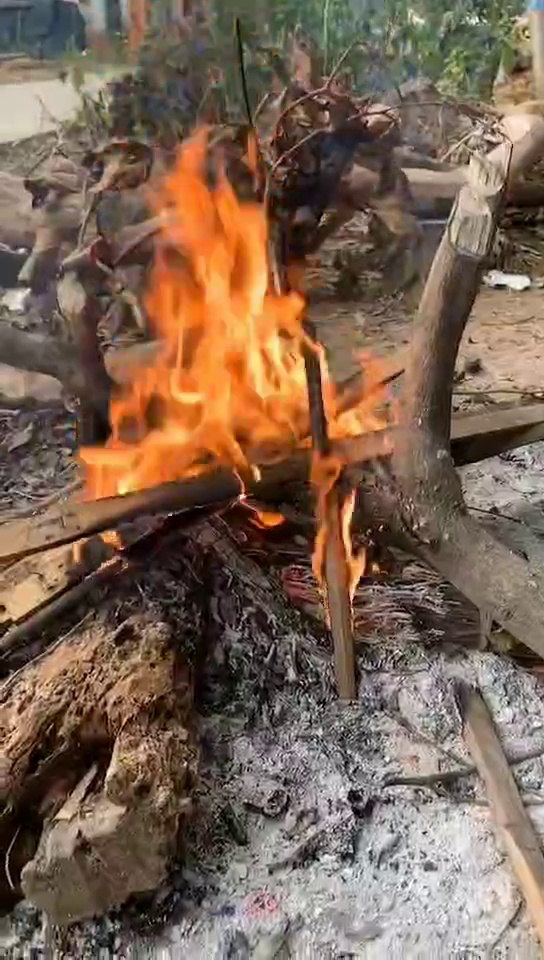fire: (102, 156, 353, 472)
